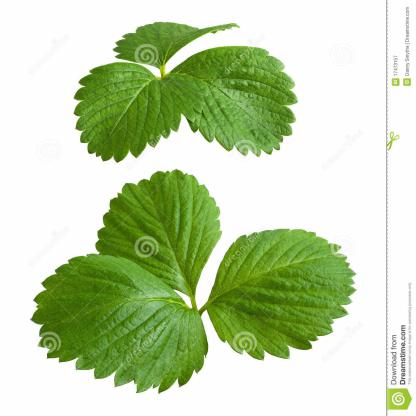Strawberry leaf: (22, 245, 211, 397), (206, 223, 356, 366), (163, 38, 299, 164), (97, 164, 226, 296), (69, 63, 181, 165), (107, 16, 244, 69)
